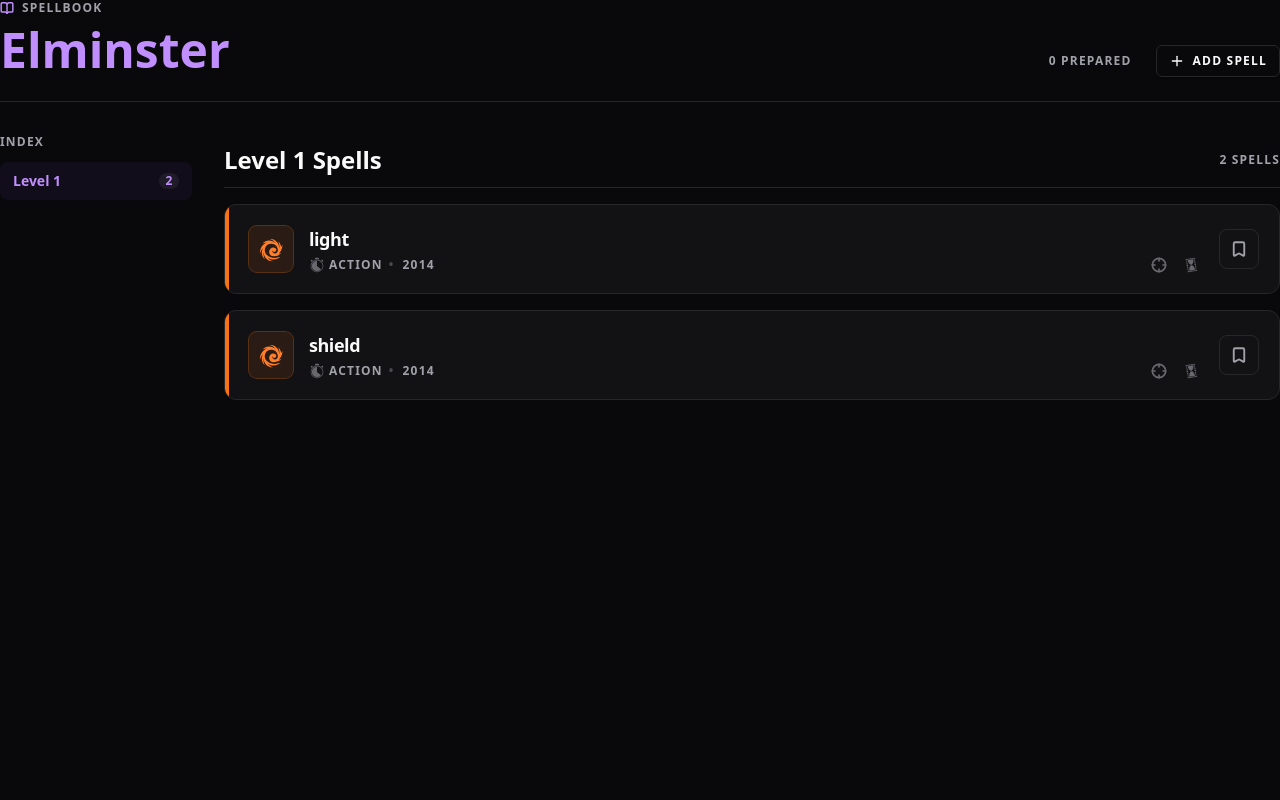
Test: SpellsTab › a lista abre na edição do grimório carregado
Check: the heading "shield" is shown, box 309,331 -> 360,359
Click the button "Add Spell" at (1218, 61), box 1156,45 -> 1279,77
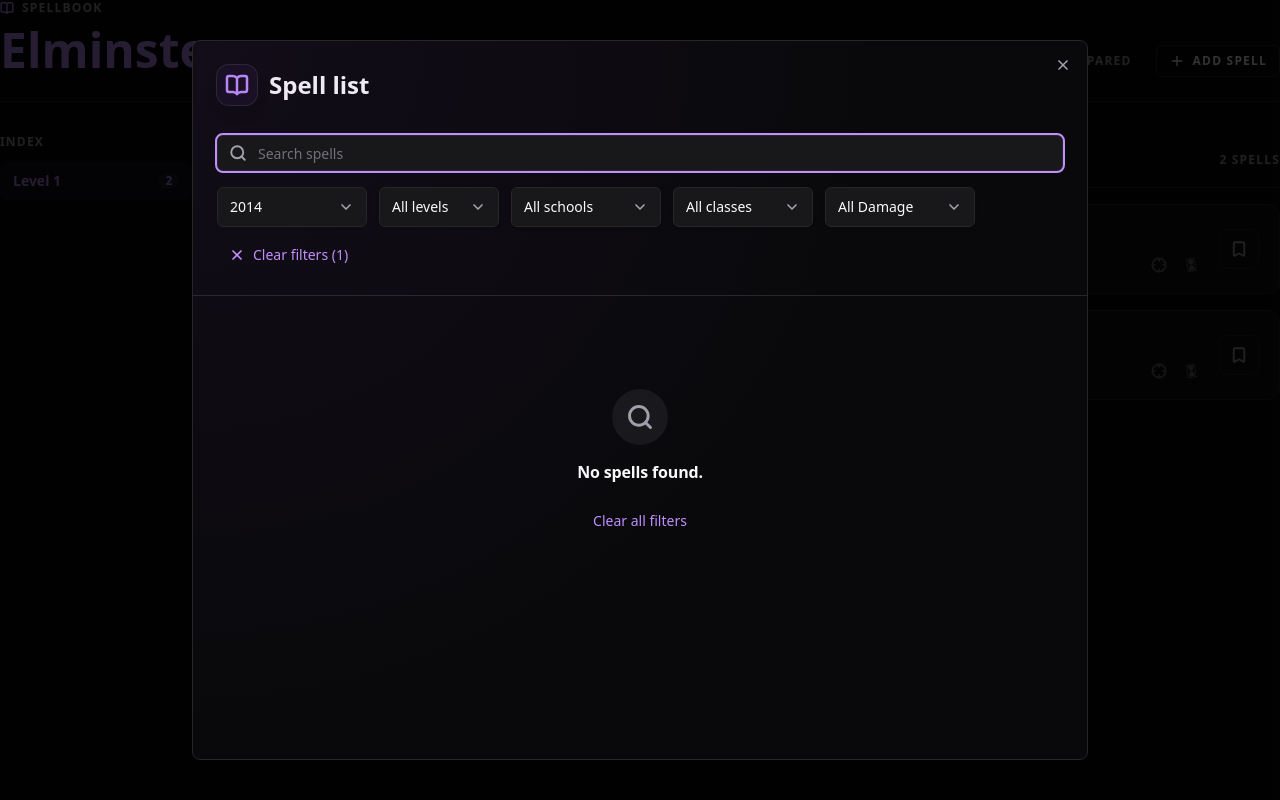
Check: the dropdown named "Edition" reads "2014", box 217,187 -> 367,227
